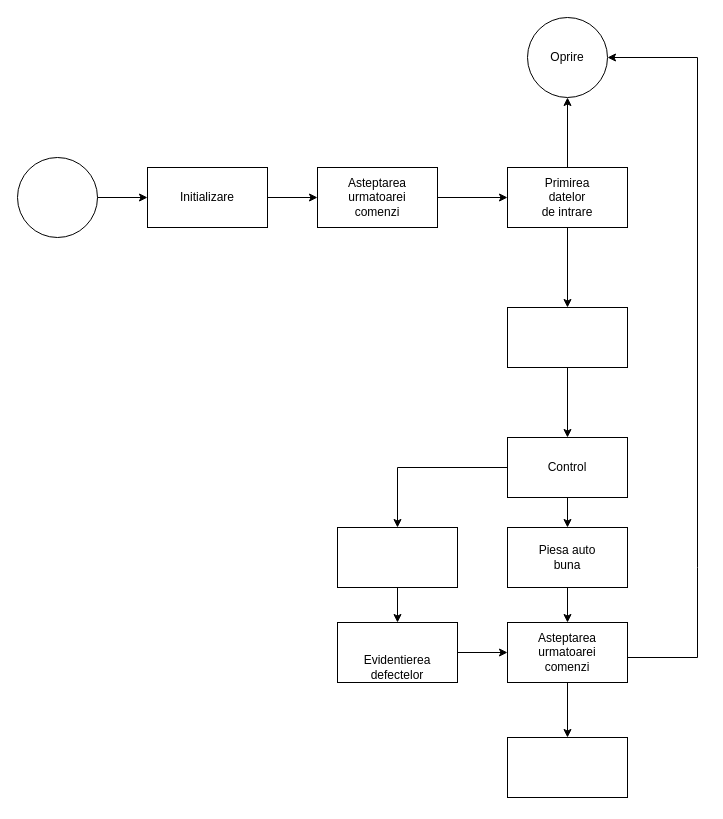
Image size: 723x819. Some labels were removed from this diagram. The centre of each missing label's shape, as x and y in pixels:
Continuarea procesului de verificare: the point at 567,767
ON: the point at 57,197
Rebut: the point at 397,557
Selectarea datelor care vor fi procesate: the point at 567,337
